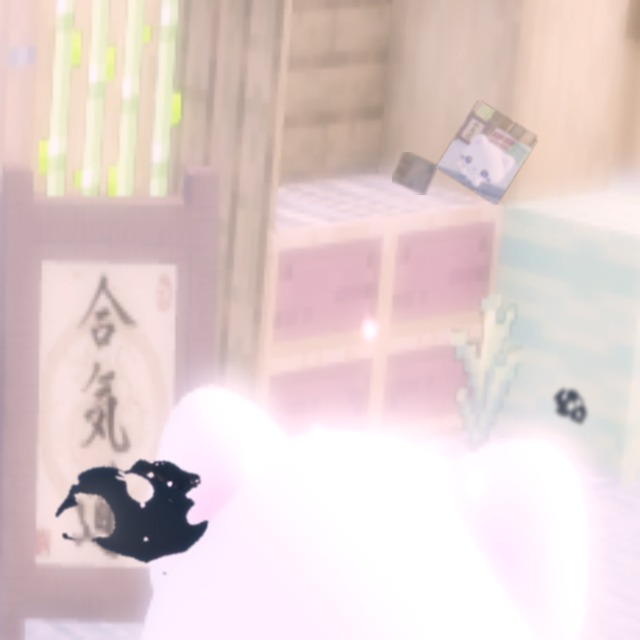urso_branco: (436, 100, 539, 205), (392, 152, 437, 195)
urso_preto: (26, 424, 244, 597), (546, 383, 598, 434)
